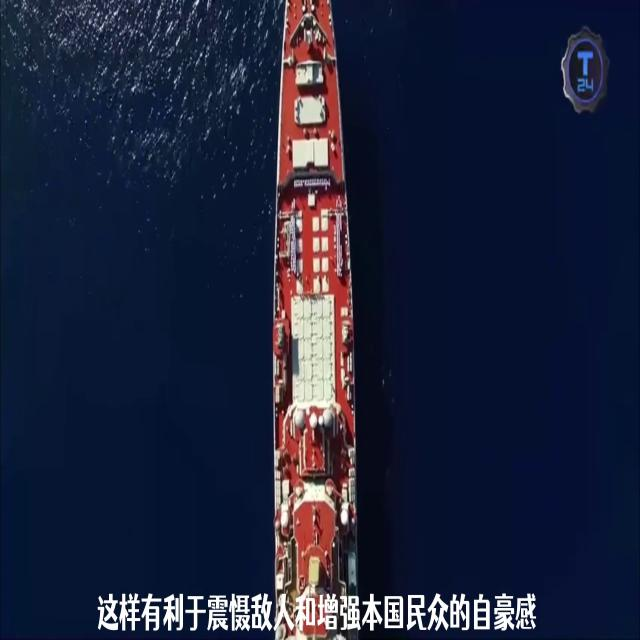navalvessels: (260, 0, 365, 640)
